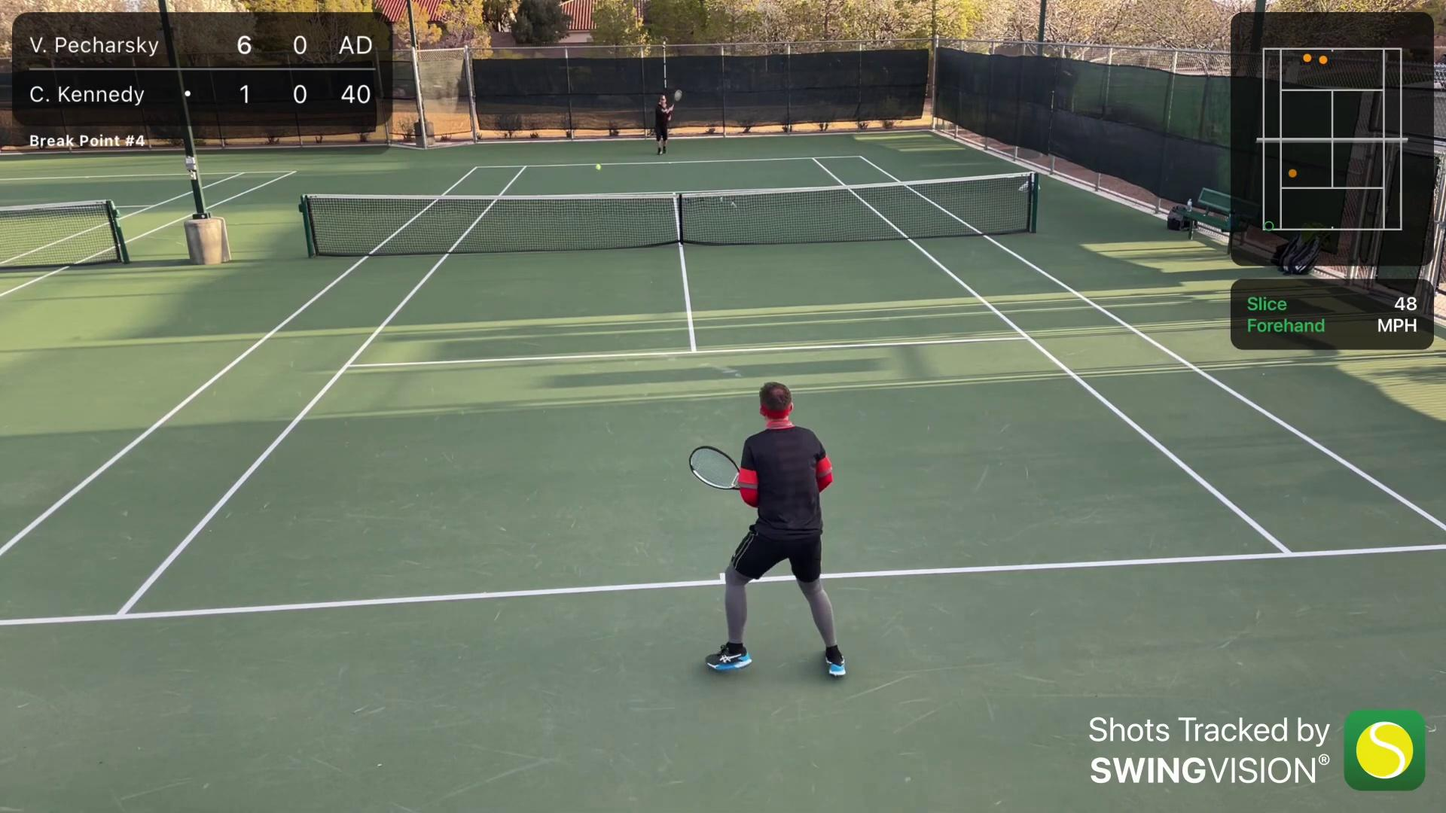ball: (595, 165, 601, 172)
